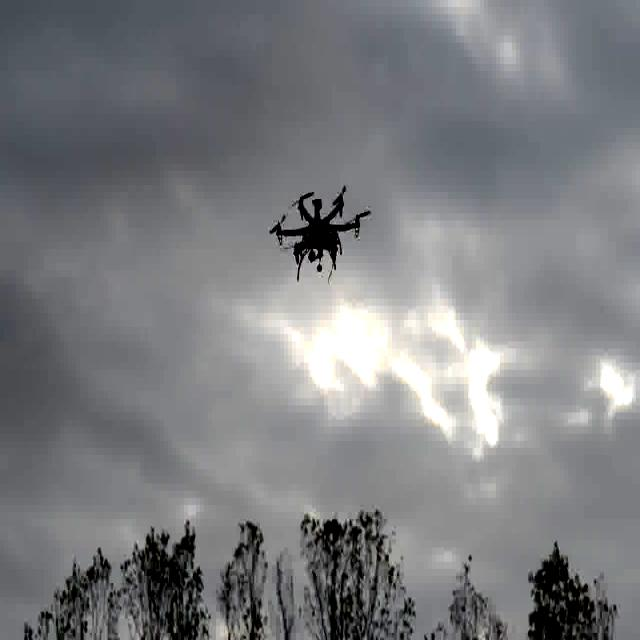drone: (269, 176, 365, 275)
